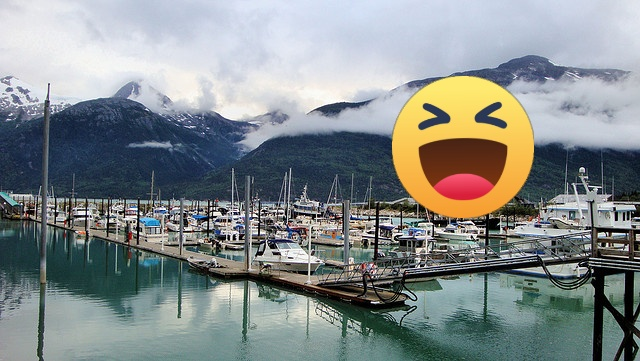haha: (392, 76, 534, 218)
